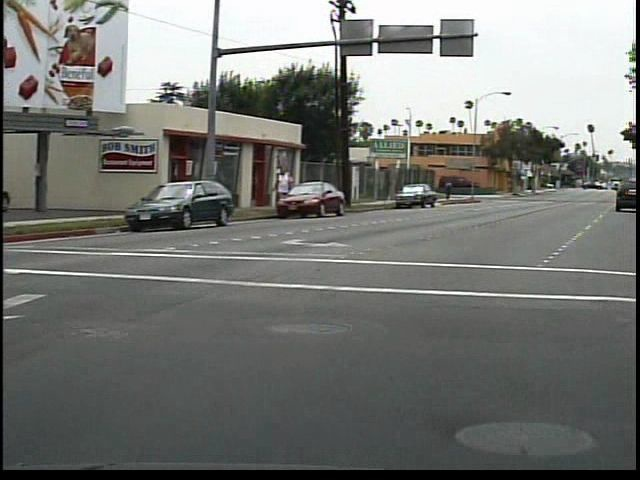person: (278, 160, 303, 214), (448, 179, 461, 204)
